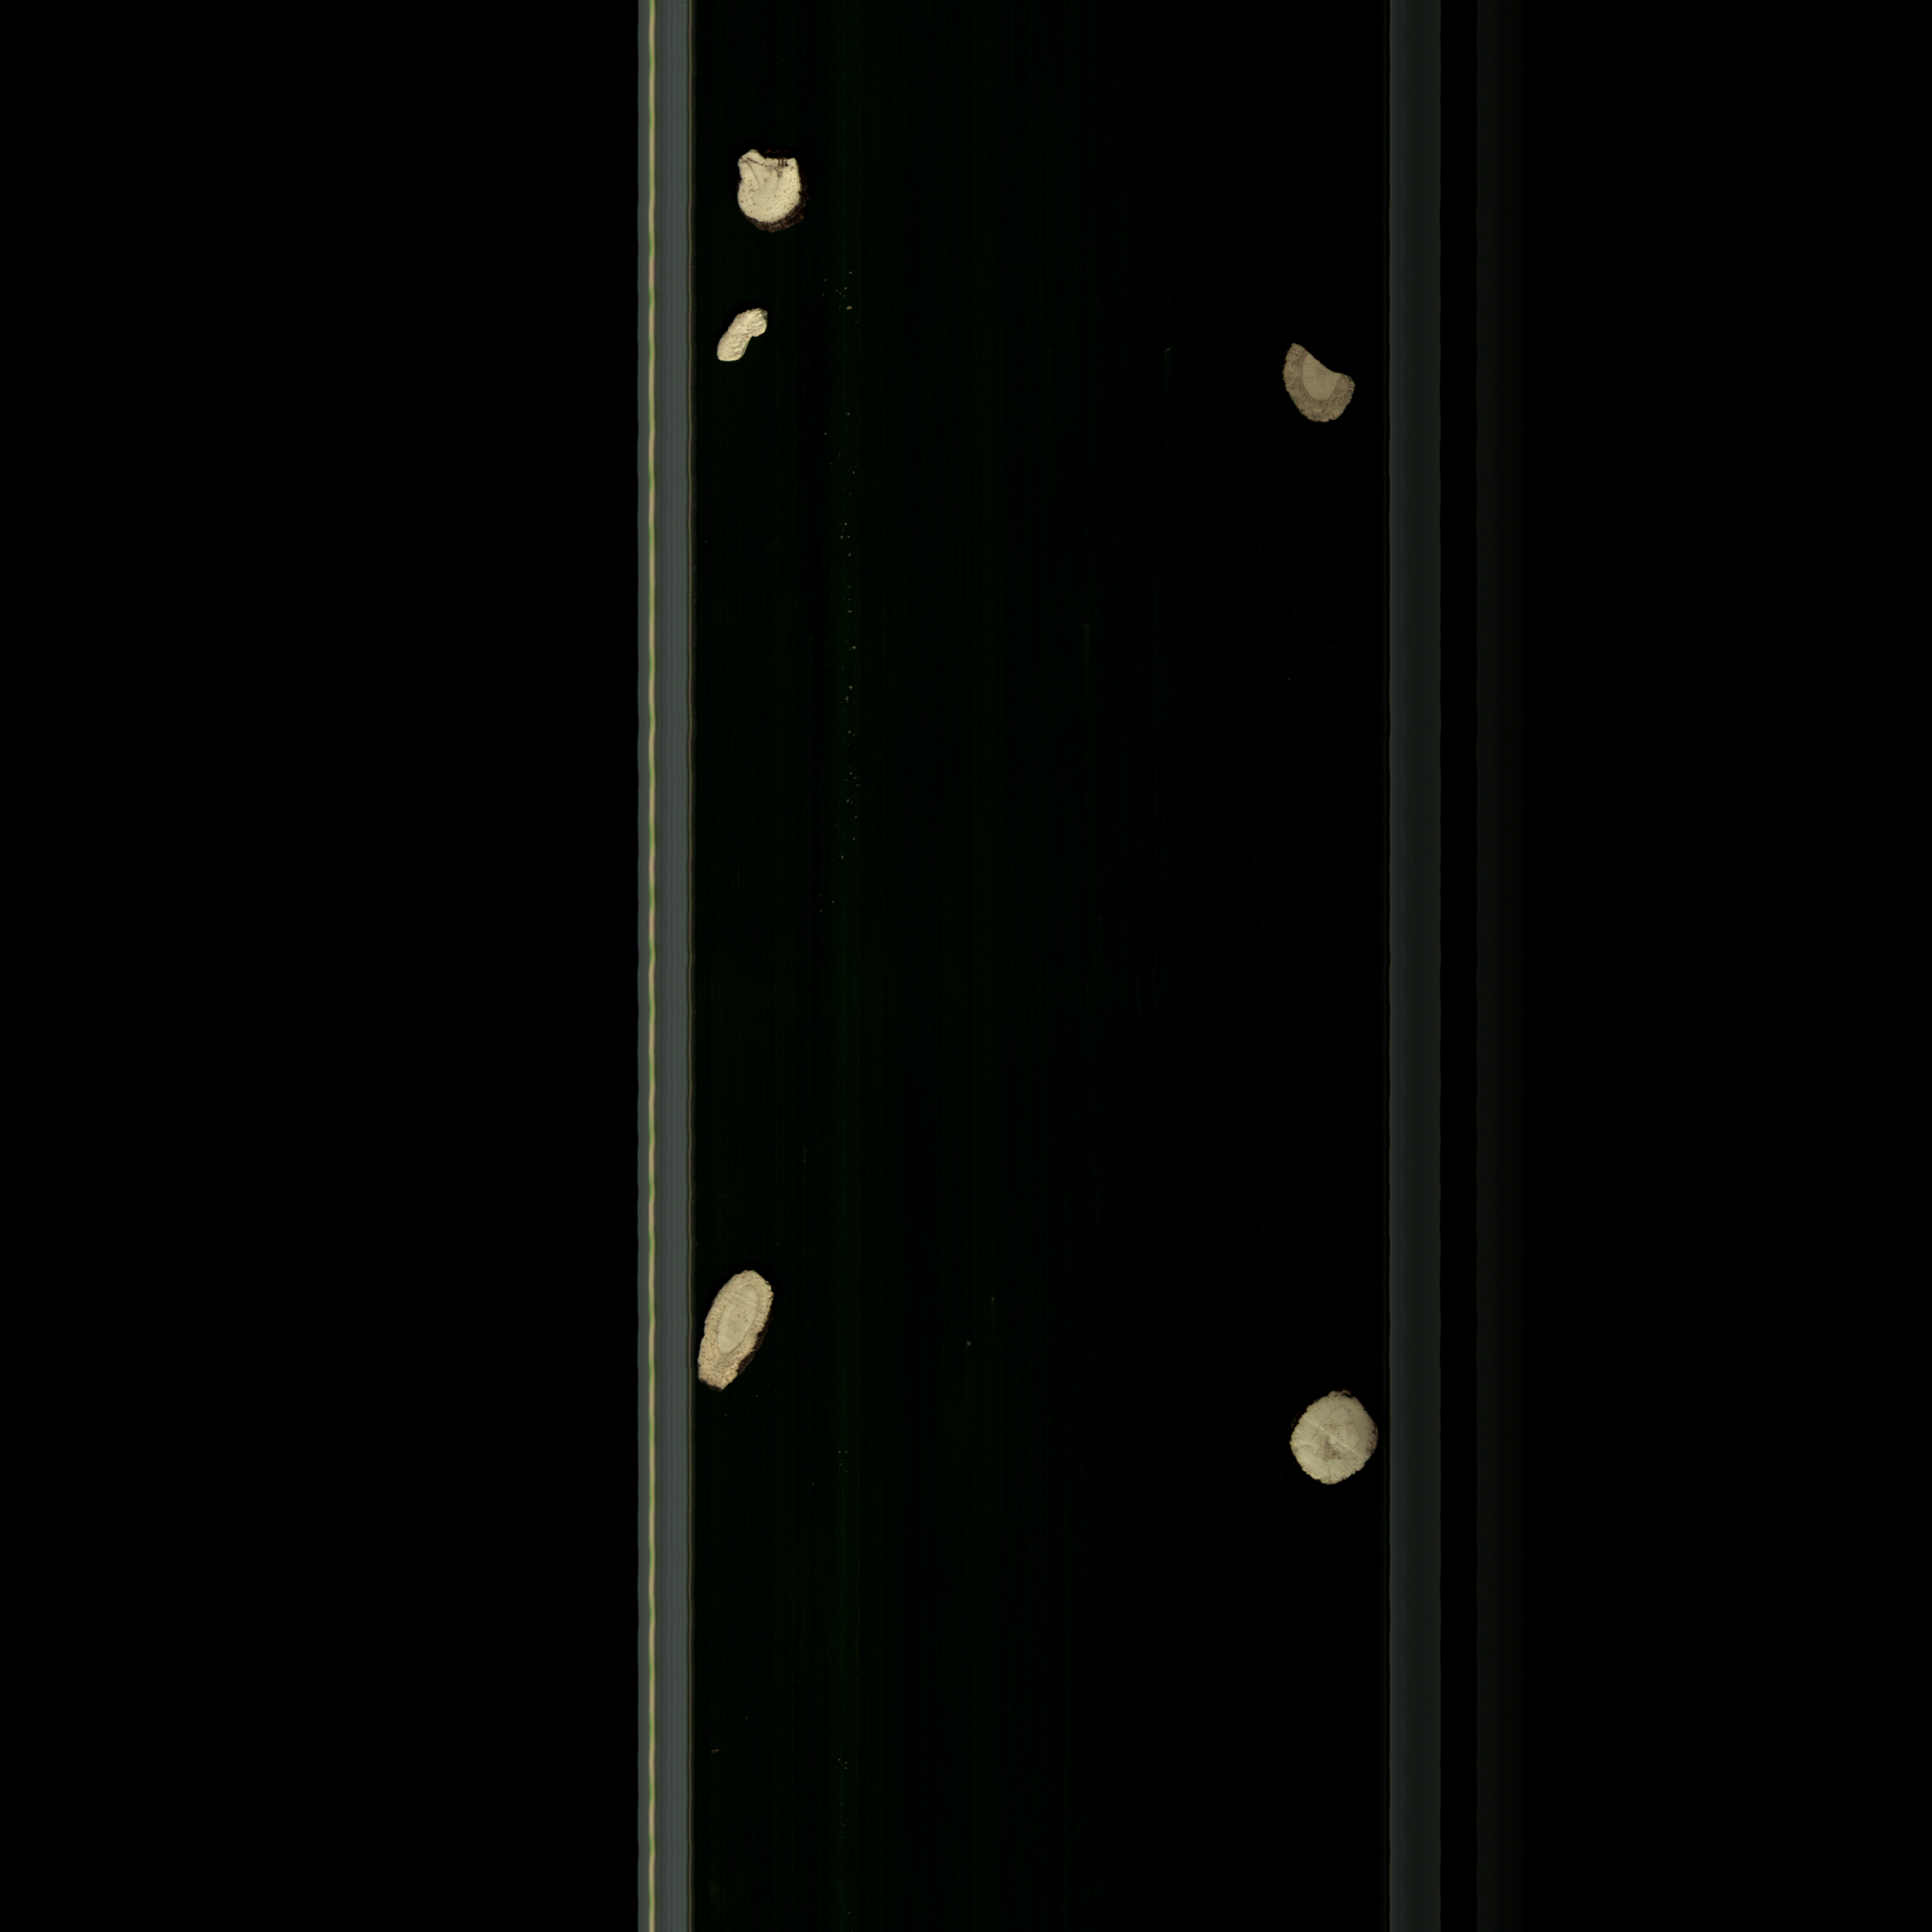debris: (1277, 1382, 1380, 1497)
distortion: (692, 1265, 784, 1398), (725, 143, 816, 239)
dreg: (706, 303, 784, 372)
moldy: (1272, 333, 1359, 432)
